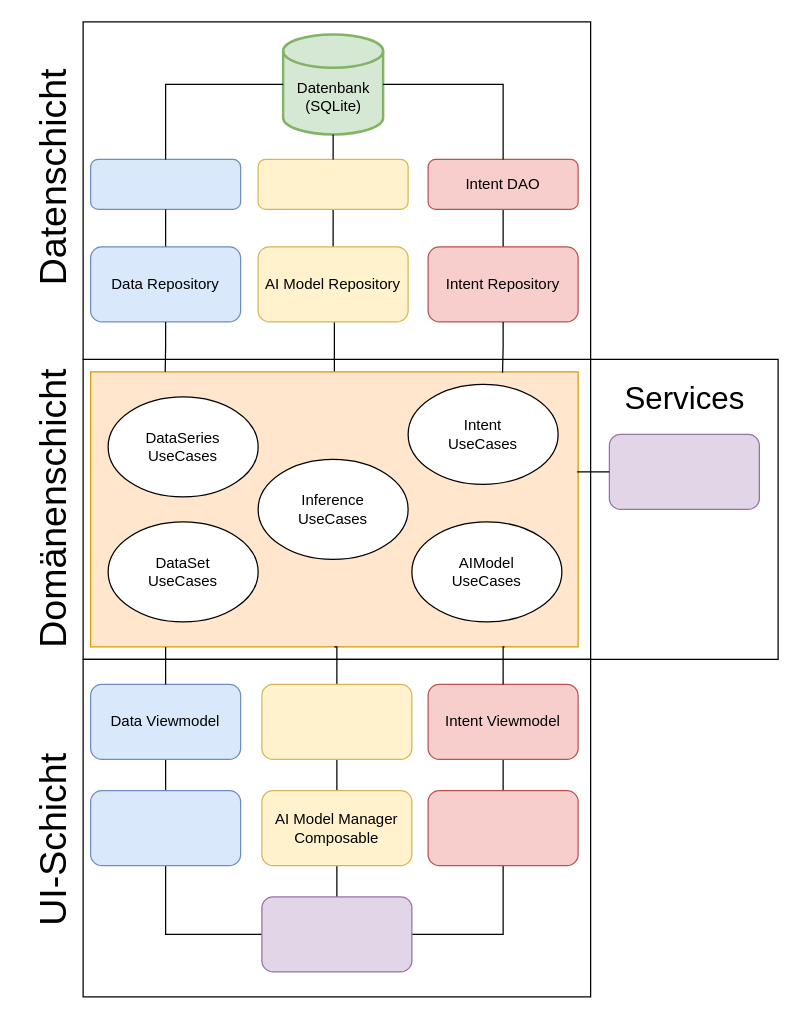
This 800x1019 diagram has some shape labels left out. The shapes that lost their labels are listed below. From the top down, each one's centre as x and y in pixels, then its label:
the point at 165,183: Data DAO
the point at 332,183: AI Model DAO
the point at 683,471: External Intent Service
the point at 336,721: AI Model Viewmodel
the point at 165,827: Data Manager Composable
the point at 502,827: Intent Manager Composable
the point at 336,934: Main Window Activity
